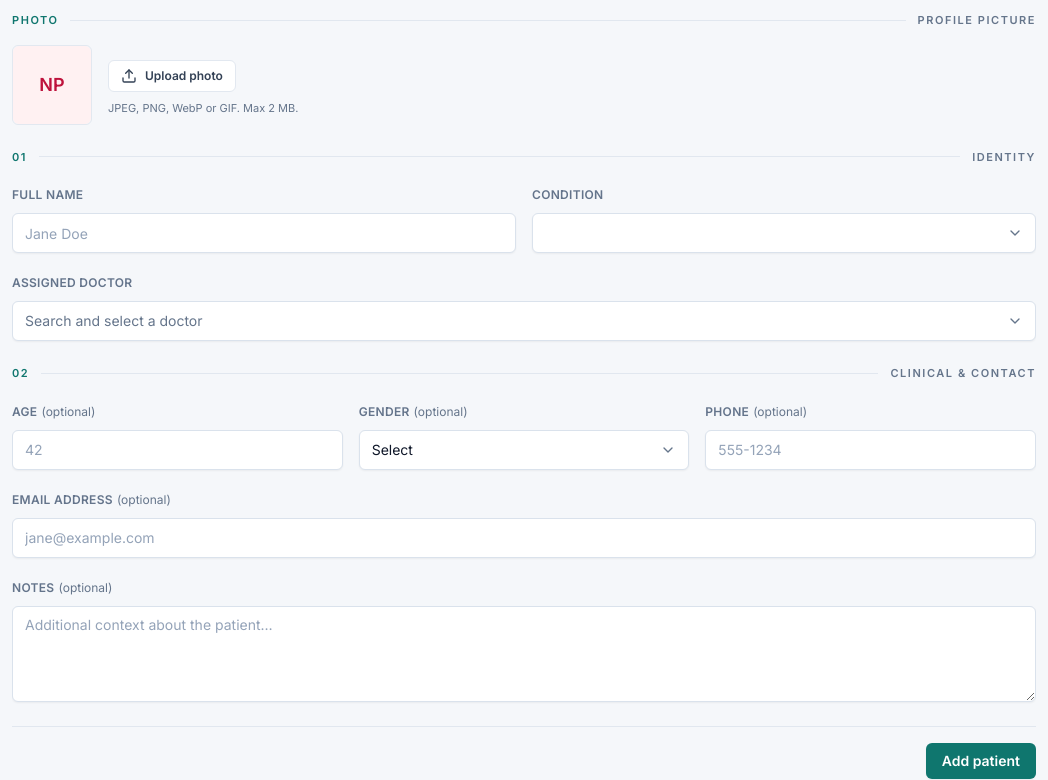
Scenario: CRUD forms › requires a patient name, condition and doctor
Click the button "Add patient". click: (981, 760)
box: [926,742,1036,778]
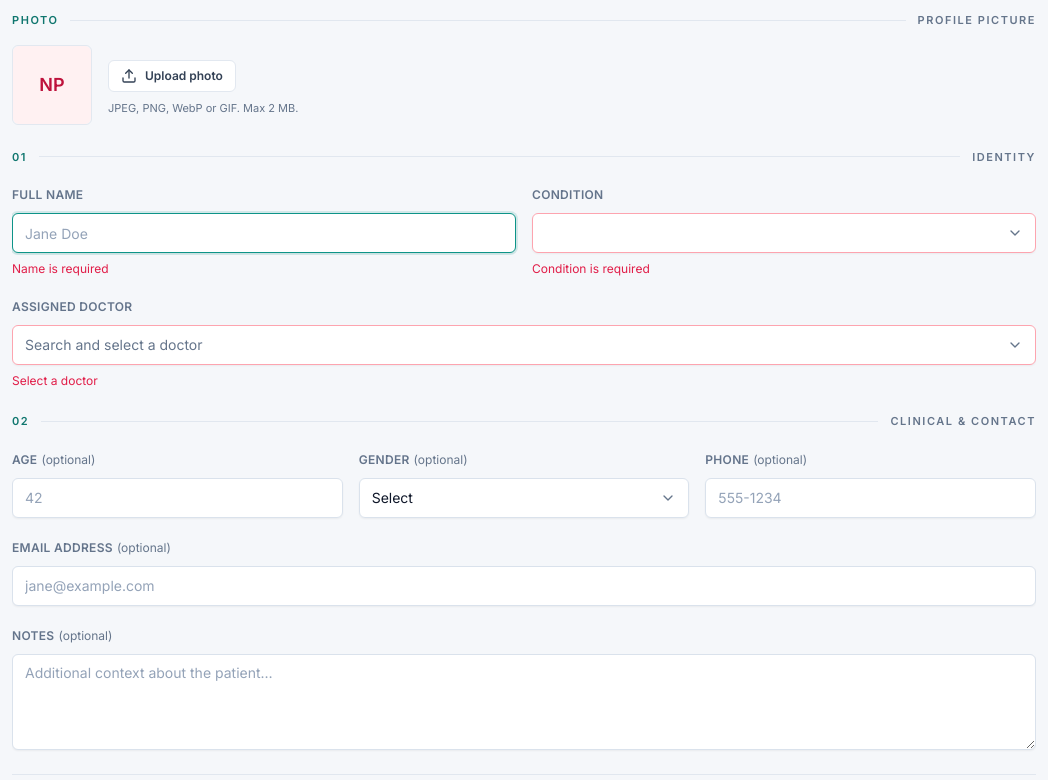
Expected: the text "Search and select a doctor" is shown, [25,335,202,355]
Expected: the text "Name is required" is shown, [12,261,109,276]
Expected: the text "Condition is required" is shown, [532,261,650,276]
